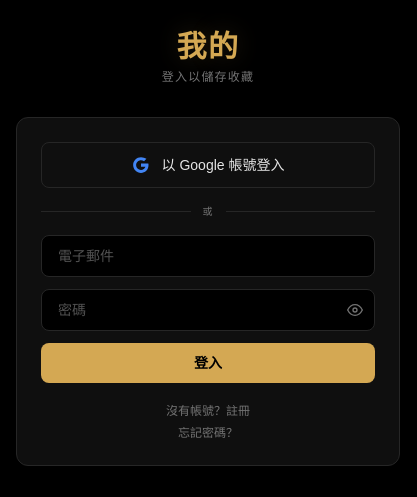
sign-in mode › shows inline error on bad credentials
The image size is (417, 497).
Step 1. Type "a@b.com" into the field with placeholder "電子郵件" → (208, 256), box [41,234,375,276]
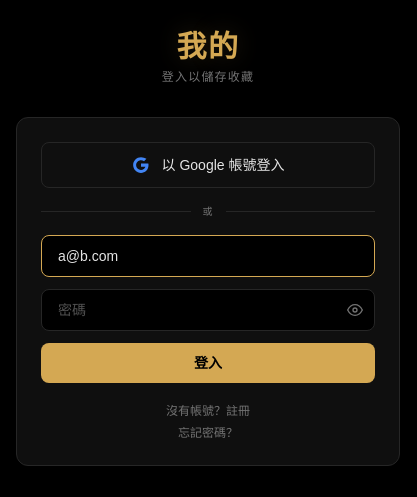
Step 2. Type "wrongpass" into the password field with placeholder "密碼" → (208, 310), box [41,288,375,330]
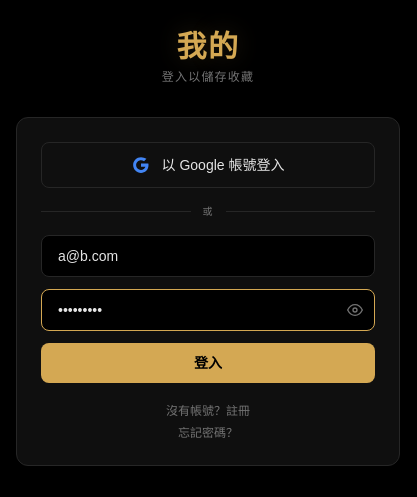
Step 3. Click the button "登入" → (208, 362), box [41,342,375,382]
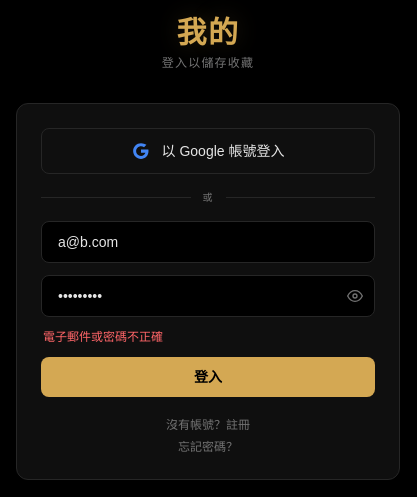
Result: the message "電子郵件或密碼不正確" is shown at [43,330,163,344]
